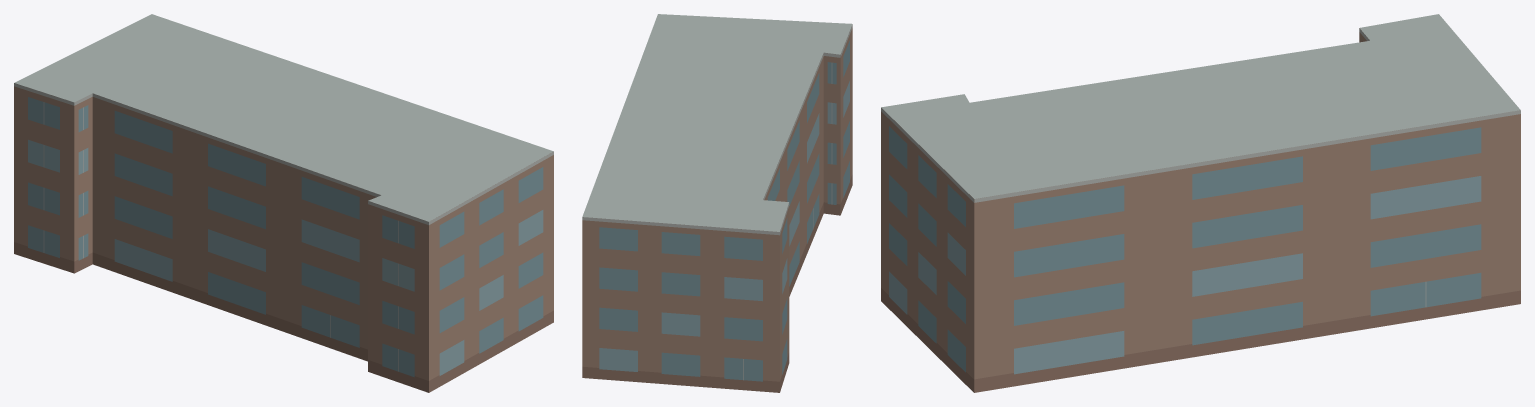
File: survey-upis-32646696.glb
3 renders of one model, left to right at view 1: azimuth 30°, elevation 25°; view 2: azimuth 150°, elevation 25°; view 3: azimuth 270°, elevation 25°, orthographic. The views are drawn at different scales.
Parts seen in each view (by area): view 1: survey-upis-32646696.tmp; view 2: survey-upis-32646696.tmp; view 3: survey-upis-32646696.tmp.
Boxes of the visible parts, x1,y1,x2,y2 form: survey-upis-32646696.tmp: (14, 14, 553, 392); survey-upis-32646696.tmp: (582, 14, 852, 392); survey-upis-32646696.tmp: (881, 14, 1520, 392).
Bounding box in the file's own units: 24.99 × 12.2 × 36.5.
